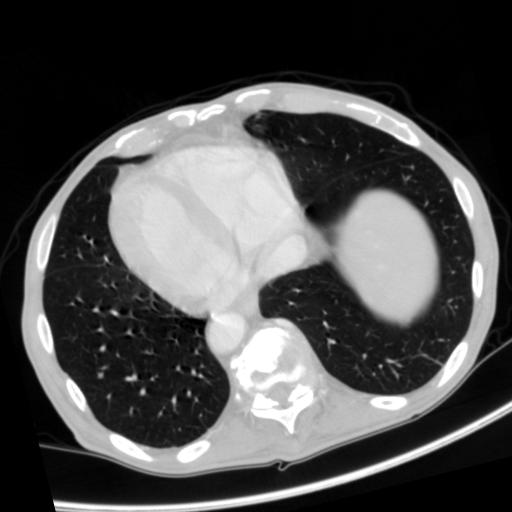nodule: (96, 368, 111, 383)
